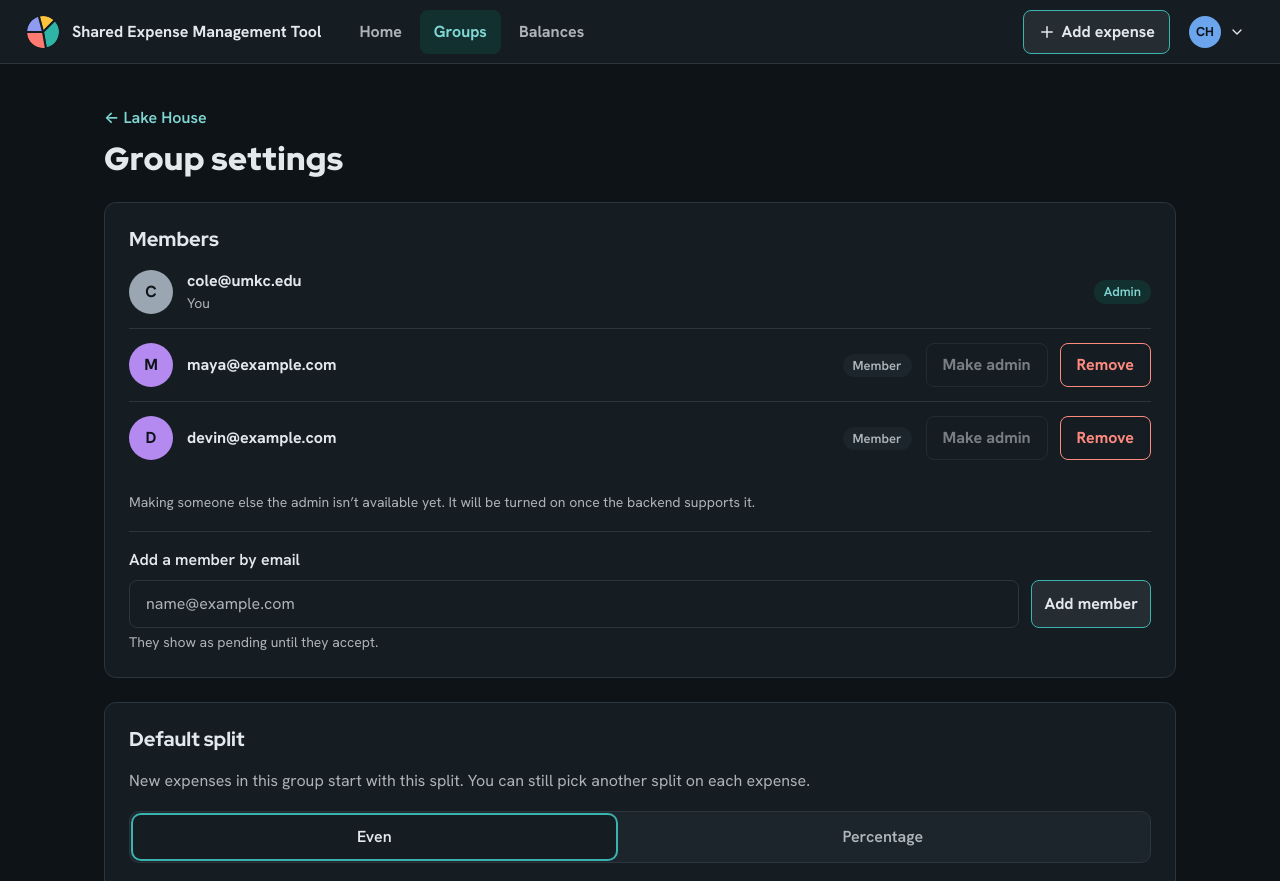
Test: Group settings: remove a member › Escape closes the balance warning
The image size is (1280, 881).
Expected: the heading "Group settings" is shown, [104, 137, 343, 180]
Expected: the text "maya@example.com" is shown, [187, 354, 336, 375]
Click the button with aria-label "Remove maya@example.com from Lake House" at (1105, 365), box [1060, 343, 1151, 387]
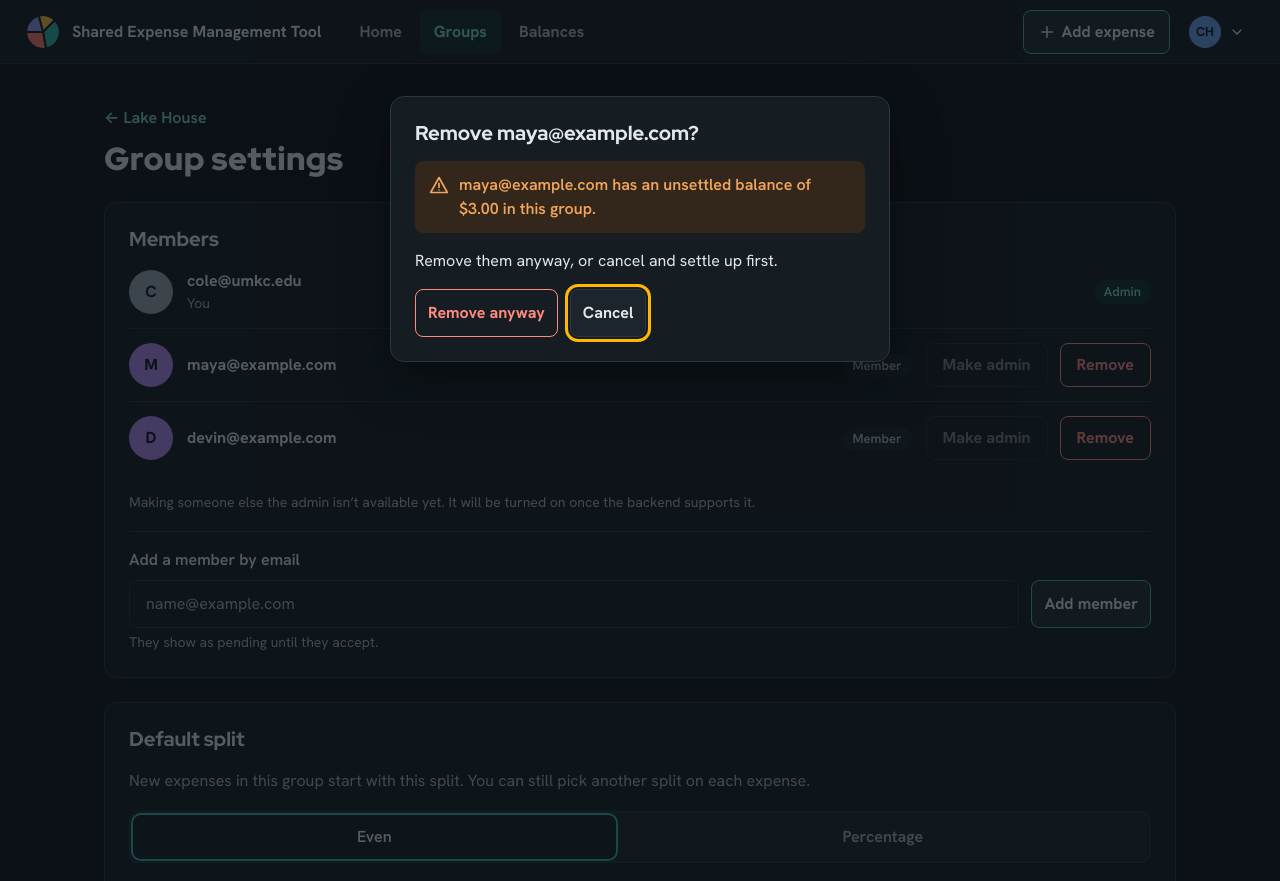
Now the dialog is shown, box [390, 96, 890, 362]
Press Escape
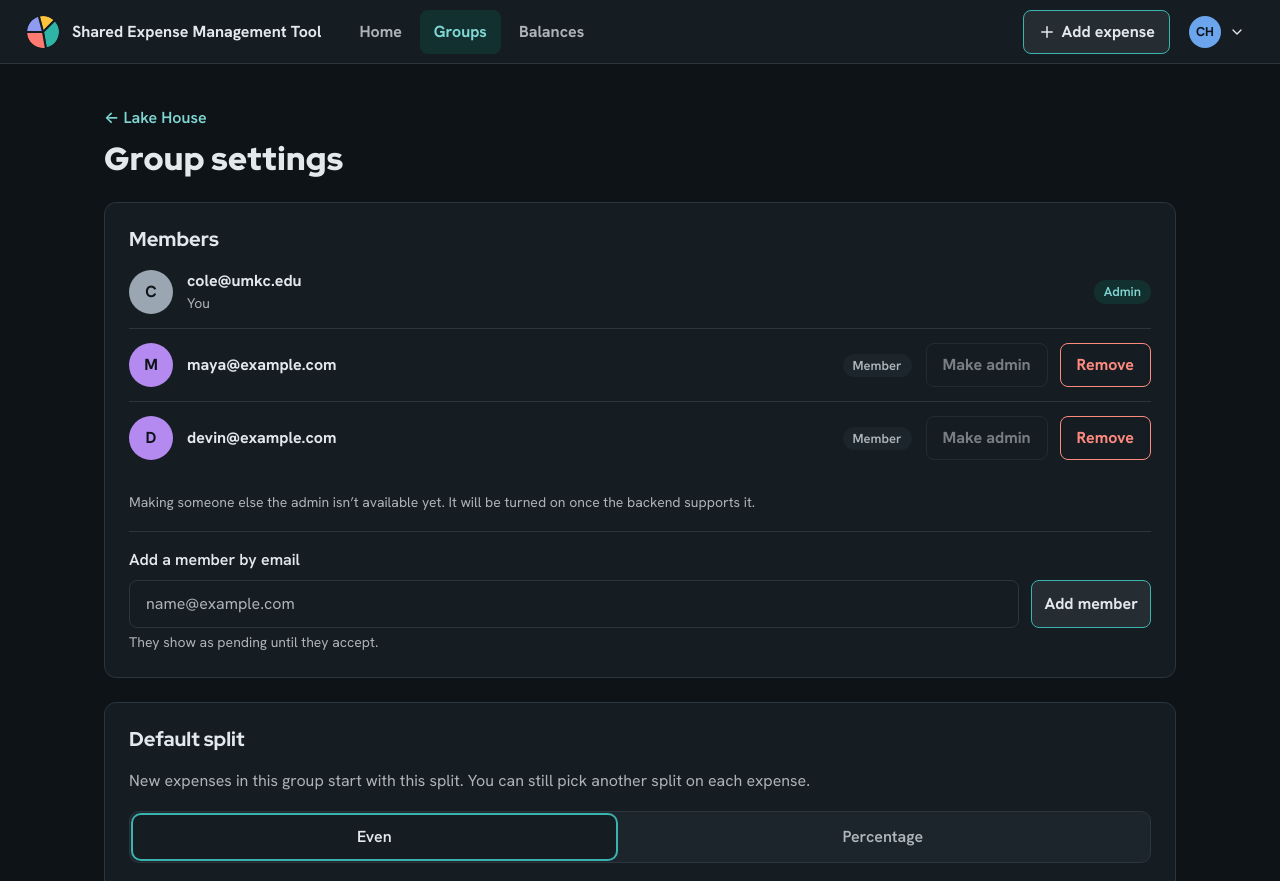
Now the dialog is gone
